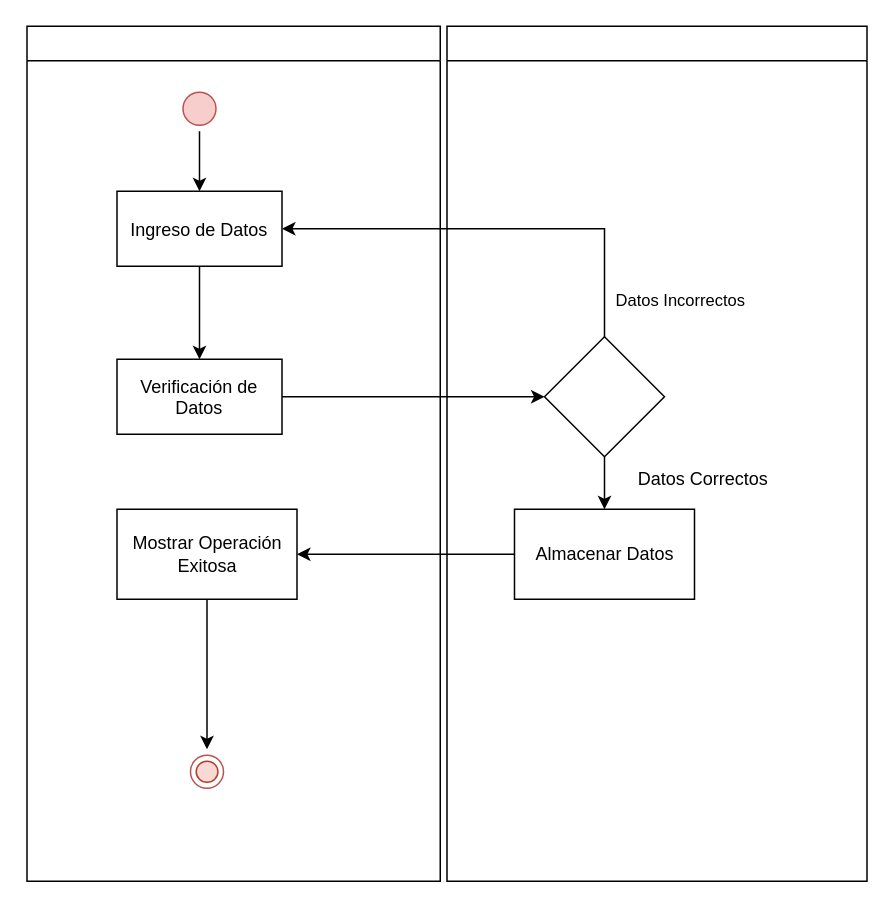
The diagram is 893 pixels wide and 908 high, and some of its shapes have lost their labels. The box of each missing label's shape, as (x1, y1, x2, y2) in pixels:
Sistema: (446, 25, 867, 881)
Usuario: (26, 25, 440, 881)
